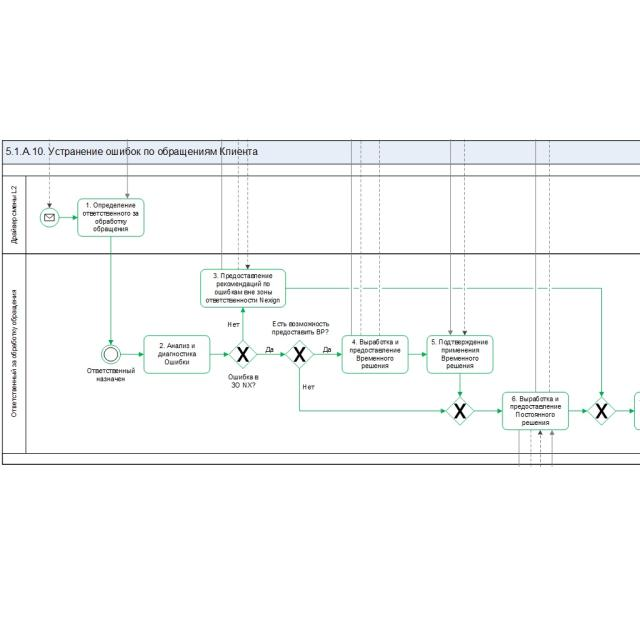arrow: (287, 286, 605, 397), (298, 368, 446, 414), (108, 238, 114, 345), (240, 308, 246, 340), (474, 408, 502, 414), (257, 352, 285, 358), (314, 352, 342, 357), (61, 214, 77, 222), (210, 351, 228, 358), (568, 408, 588, 414), (615, 408, 635, 414), (120, 352, 144, 357), (407, 351, 426, 357), (458, 374, 462, 396)
circle: (40, 208, 59, 227), (102, 345, 120, 364)
diamond: (586, 397, 616, 426), (446, 396, 474, 427), (229, 340, 257, 369), (286, 340, 314, 369)
rectangle: (200, 269, 286, 308), (502, 392, 569, 430), (144, 335, 210, 373), (427, 335, 493, 373), (78, 199, 144, 237), (342, 335, 408, 373)
text_region: (270, 320, 330, 336), (87, 367, 136, 383), (228, 374, 260, 389), (227, 320, 240, 329), (302, 383, 315, 390), (322, 346, 332, 353), (265, 346, 274, 353)
